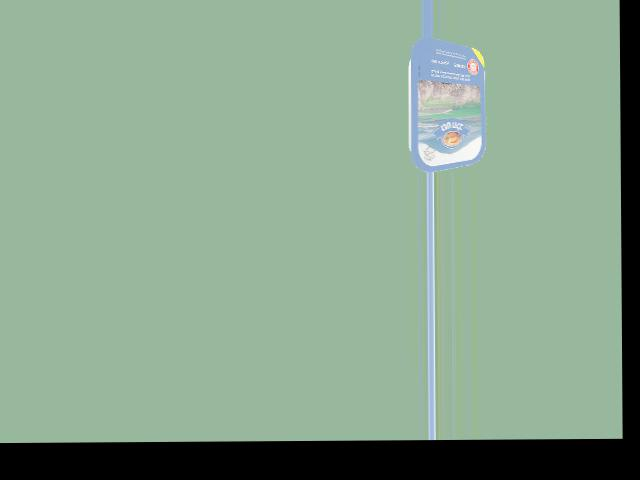cheese: (398, 51, 489, 162)
